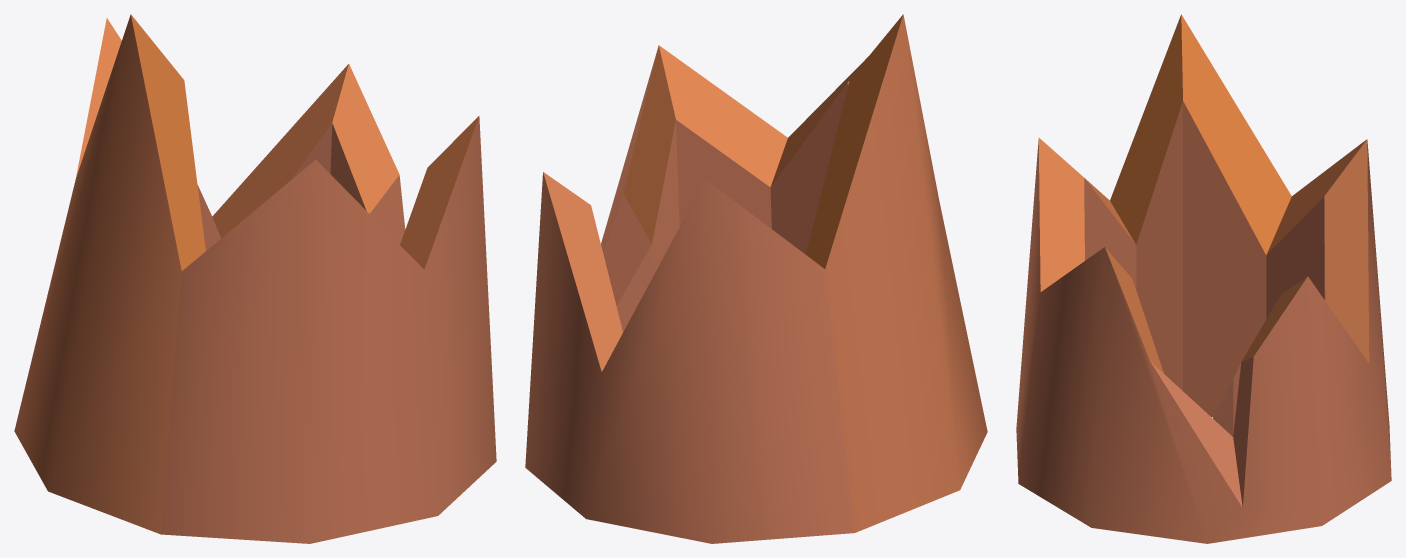
The model's file is fire_red001.glb.
3 views of the same model, side by side, from view 1: azimuth 30°, elevation 25°; view 2: azimuth 150°, elevation 25°; view 3: azimuth 270°, elevation 25° (orthographic). The views are drawn at different scales.
Visible parts, largest first — view 1: Fire_Red001.001; view 2: Fire_Red001.001; view 3: Fire_Red001.001.
Part boxes in pixels (bbox=[...]): Fire_Red001.001: bbox=[14, 14, 496, 543]; Fire_Red001.001: bbox=[525, 14, 987, 543]; Fire_Red001.001: bbox=[1016, 14, 1391, 543].
Size of the model in its own units: 0.2234 by 0.2466 by 0.2138.
